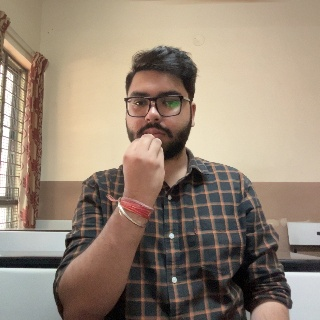Food: (119, 132, 167, 224)
